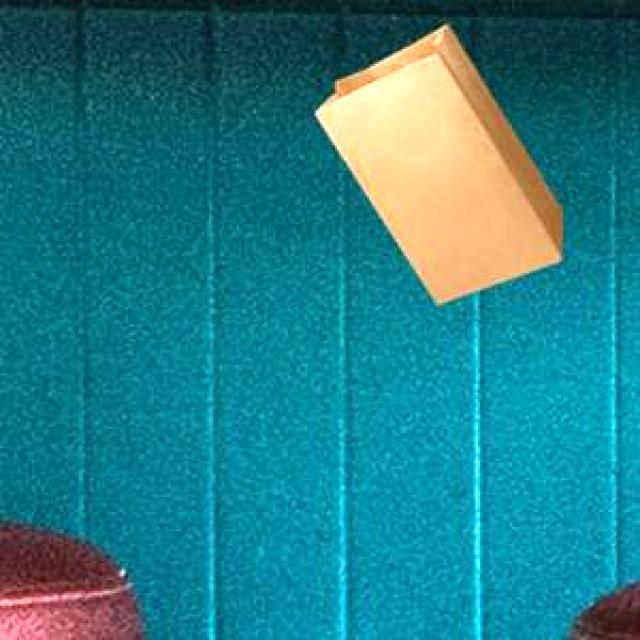Paper_Bag: (312, 22, 560, 302)
